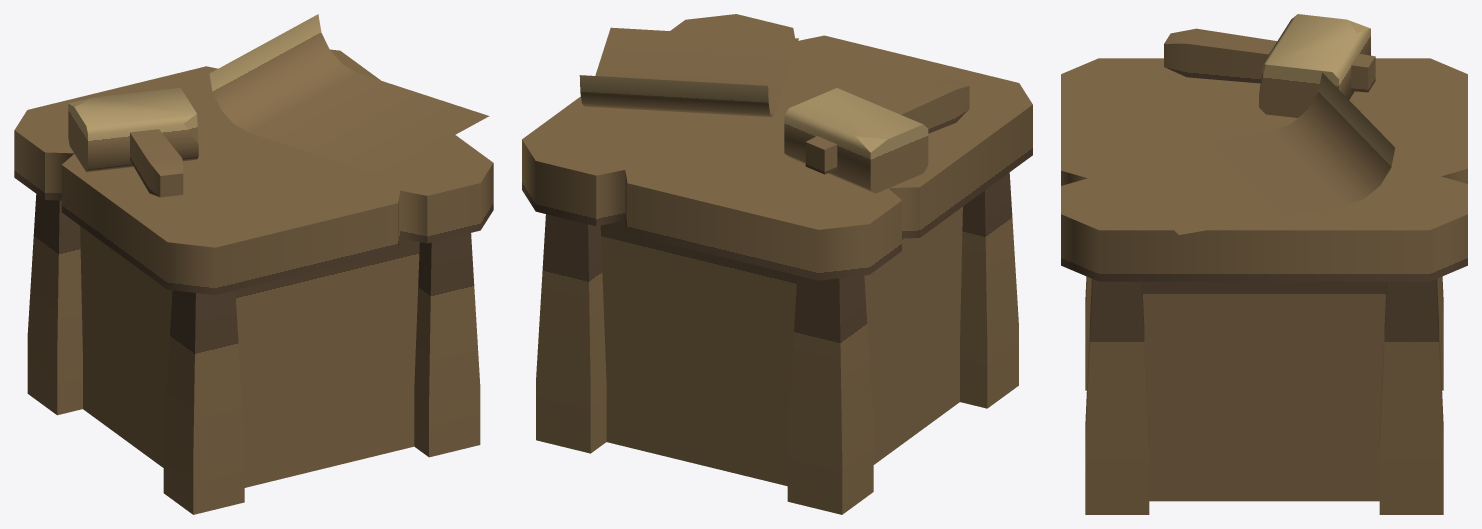
File: workbench-open-bench.glb
The picture shows the model from 3 angles, left to right: view 1: azimuth 30°, elevation 25°; view 2: azimuth 150°, elevation 25°; view 3: azimuth 270°, elevation 25°; orthographic projection. The views are drawn at different scales.
Parts seen in each view (by area): view 1: workbench-open-bench runtime mesh; view 2: workbench-open-bench runtime mesh; view 3: workbench-open-bench runtime mesh.
Boxes of the visible parts, <box> form: workbench-open-bench runtime mesh: <box>14,14,493,514</box>; workbench-open-bench runtime mesh: <box>522,14,1032,514</box>; workbench-open-bench runtime mesh: <box>1061,14,1467,514</box>.
Size of the model in its own units: 0.9659 by 0.85 by 0.8769.
3 materials, 3 textured.
